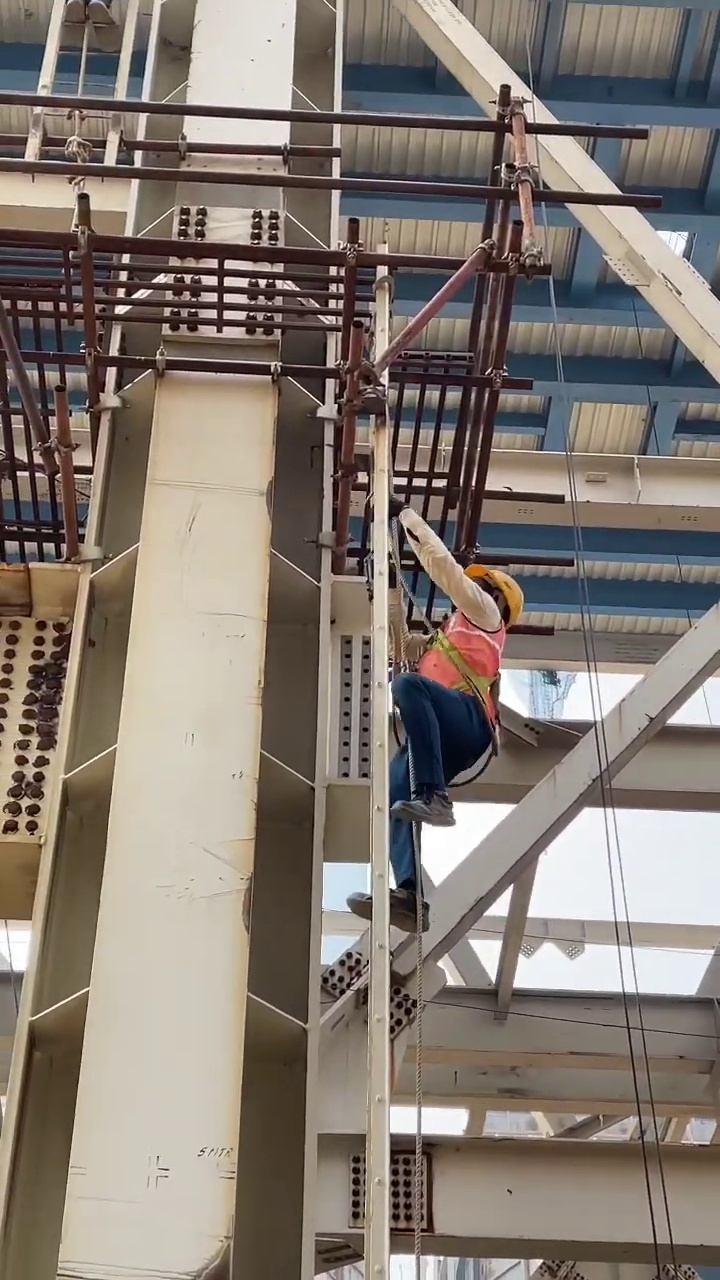Helmet: (466, 562, 525, 622)
Person: (304, 561, 527, 935)
Safety_Harness: (400, 615, 509, 749)
Safety_shoes: (345, 882, 430, 933), (392, 787, 457, 827)
